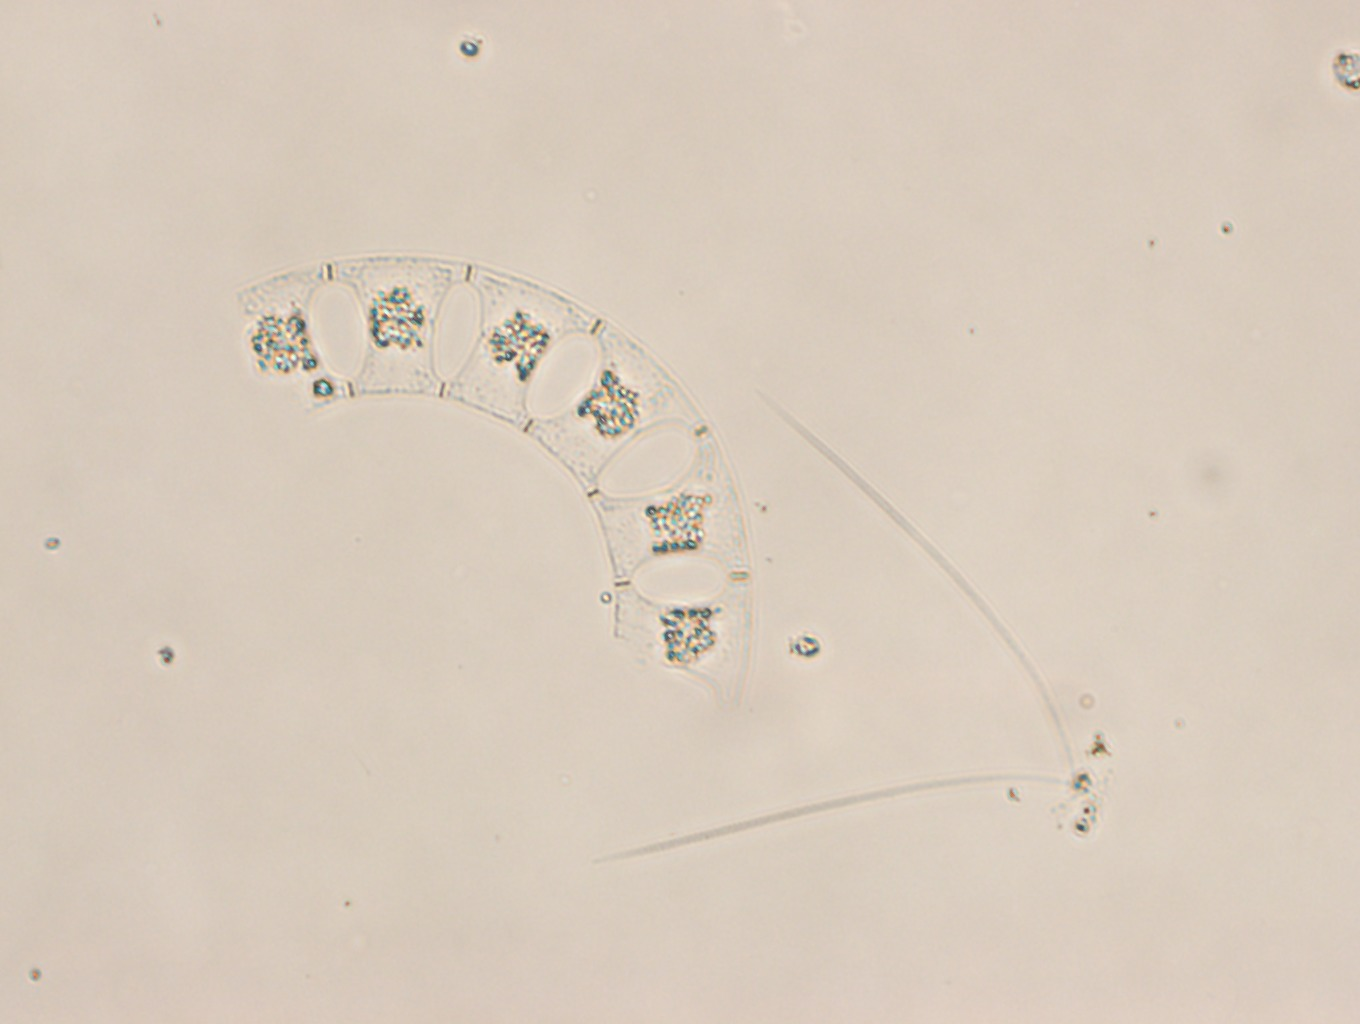eucampia: (234, 256, 755, 699)
